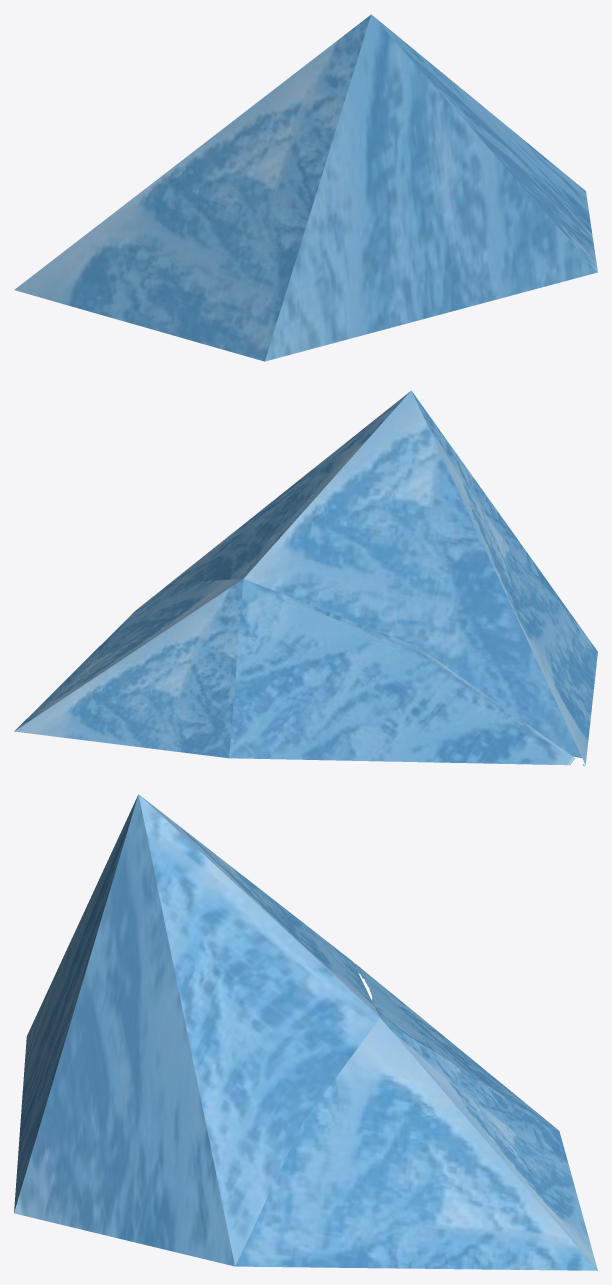
File: mountainv2.fbx
3 renders of one model, top to bottom at view 1: azimuth 30°, elevation 25°; view 2: azimuth 150°, elevation 25°; view 3: azimuth 270°, elevation 25°, orthographic. The views are drawn at different scales.
Parts seen in each view (by area): view 1: Cube; view 2: Cube; view 3: Cube.
Boxes of the visible parts, x1,y1,x2,y2 form: Cube: (14,14,597,361); Cube: (14,390,597,765); Cube: (14,794,597,1270).
Size of the model in its own units: 706 by 361 by 563.
Materials: 1 (1 with a texture image).
